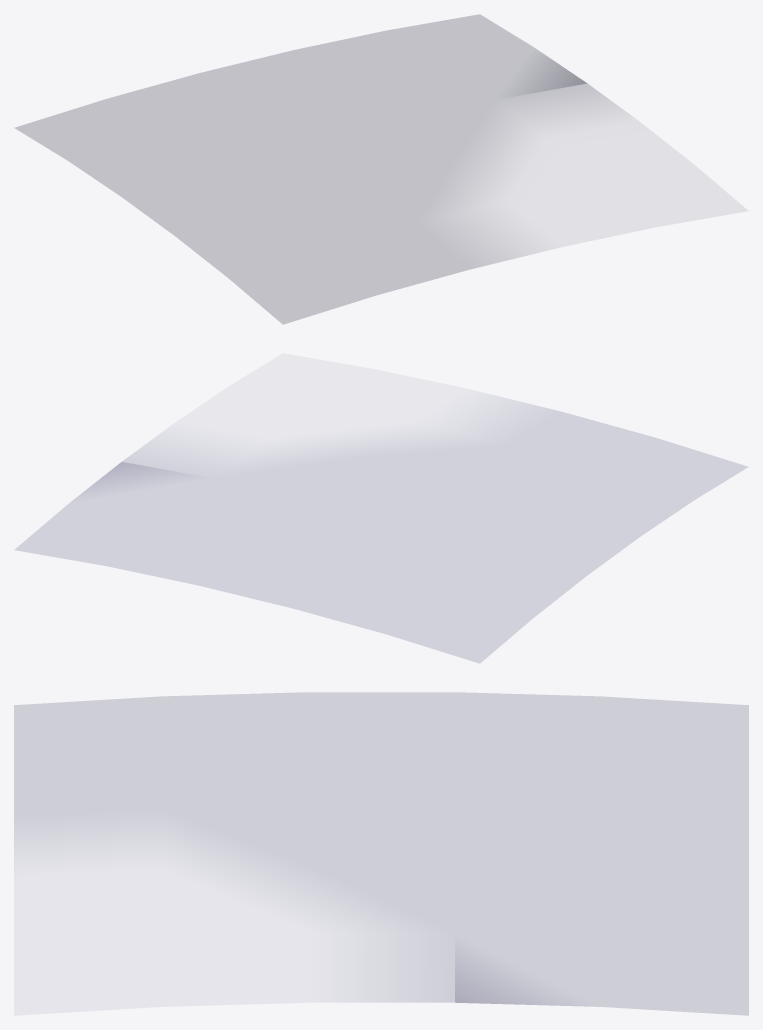
3 renders of one model, top to bottom at view 1: azimuth 30°, elevation 25°; view 2: azimuth 150°, elevation 25°; view 3: azimuth 270°, elevation 25°, orthographic. The views are drawn at different scales.
Parts seen in each view (by area): view 1: Joint_0_Object_0; view 2: Joint_0_Object_0; view 3: Joint_0_Object_0.
Part boxes in pixels (box(x1,y1,x2,y2)): Joint_0_Object_0: box(15, 14, 631, 324); Joint_0_Object_0: box(15, 393, 747, 663); Joint_0_Object_0: box(14, 692, 748, 1015).
Bounding box in the file's own units: 10000 × 400 × 10000.
1 material, 1 textured.
